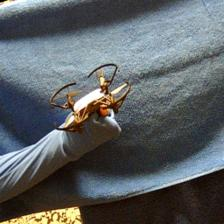drone: (49, 60, 131, 131)
